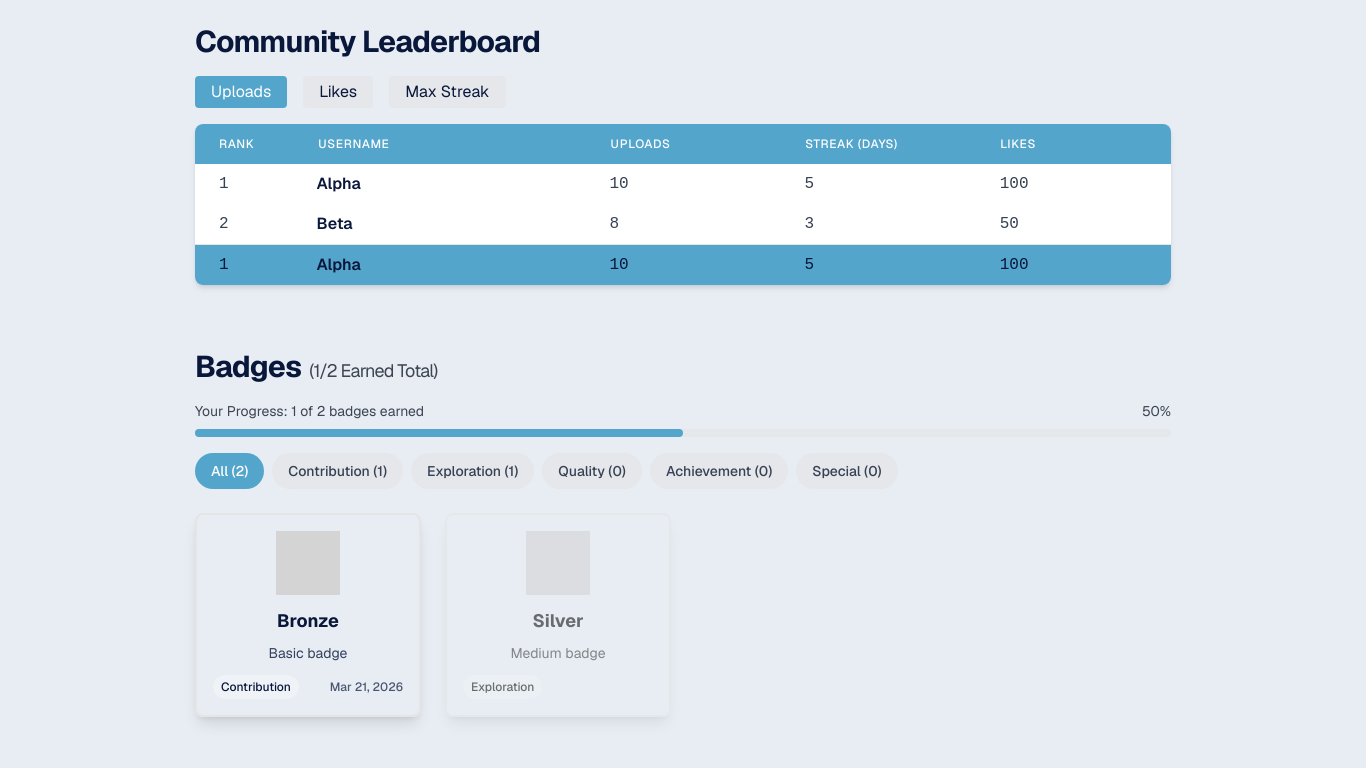
it: CommunityTab › filters badge categories and updates header
Expected: the button "all (2)" is shown, top-left (195, 453), bottom-right (264, 489)
Click the button "contribution (1)" at point(338, 471), box top-left (272, 453), bottom-right (403, 489)
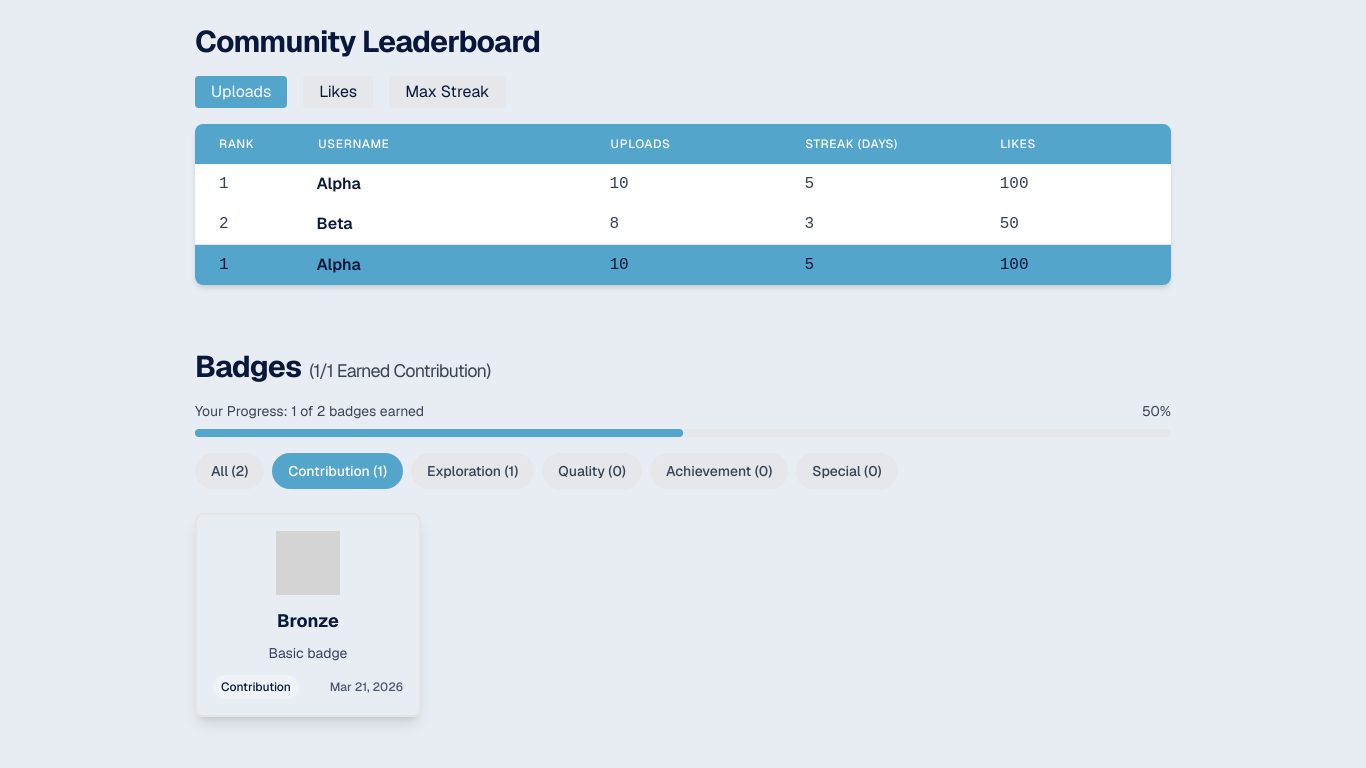
Now the text "(1/1 earned contribution)" is shown, box top-left (309, 359), bottom-right (490, 382)
